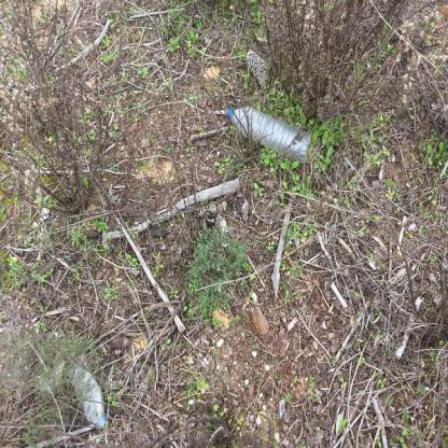Bottle: (229, 107, 312, 164), (72, 366, 109, 429)
